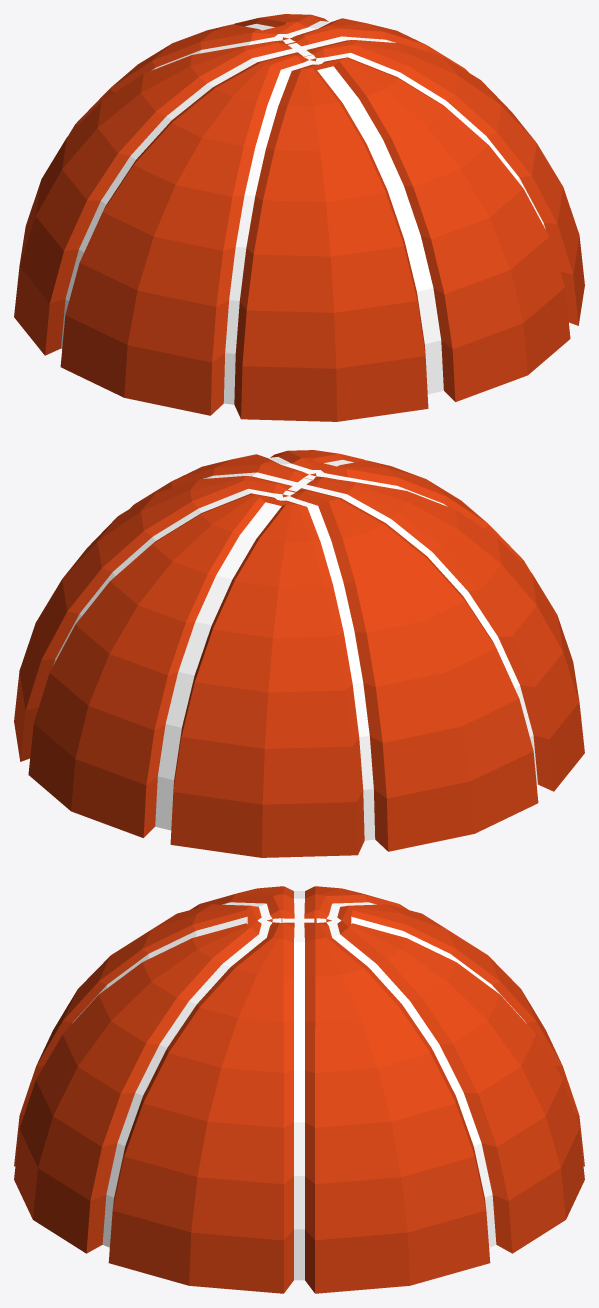
File: pallaBasket.glb
3 views of the same model, one above another, from view 1: azimuth 30°, elevation 25°; view 2: azimuth 150°, elevation 25°; view 3: azimuth 270°, elevation 25° (orthographic).
Visible parts, largest first — view 1: Sphere; view 2: Sphere; view 3: Sphere.
Boxes of the visible parts, x1,y1,x2,y2 form: Sphere: (14,14,584,421); Sphere: (14,450,584,857); Sphere: (14,886,584,1293).
Size of the model in its own units: 1.98 by 0.9808 by 1.98.
